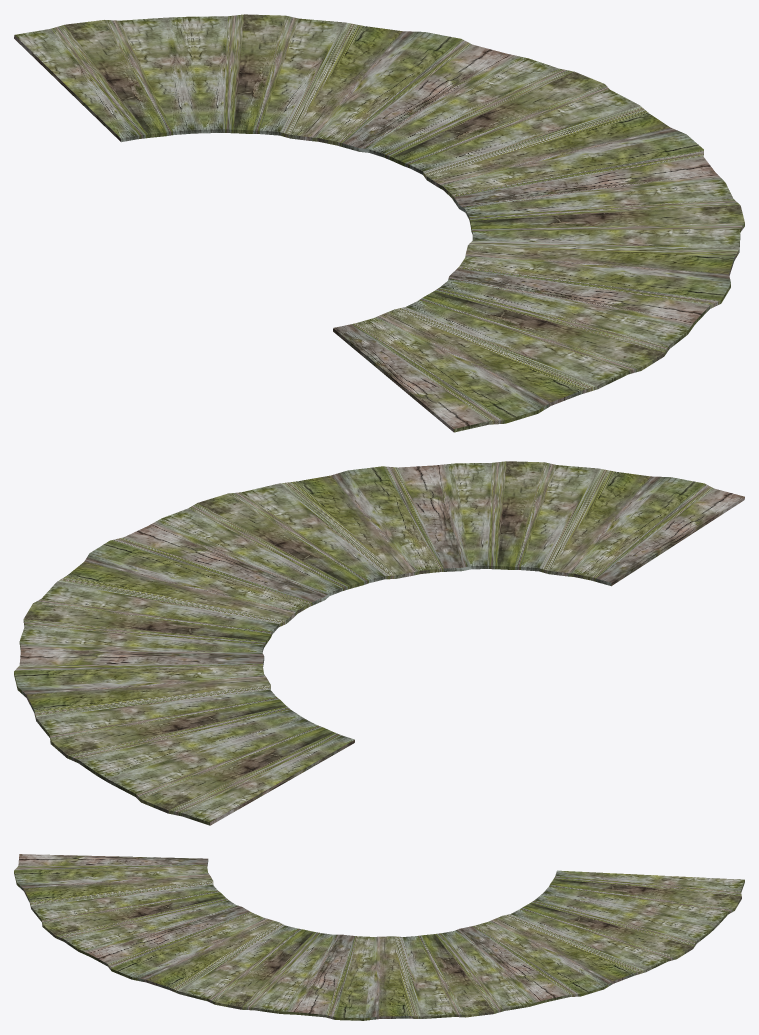
The model's file is RAMP-004.fbx.
3 renders of one model, top to bottom at view 1: azimuth 30°, elevation 25°; view 2: azimuth 150°, elevation 25°; view 3: azimuth 270°, elevation 25°, orthographic. The views are drawn at different scales.
Parts seen in each view (by area): view 1: Ramp__004; view 2: Ramp__004; view 3: Ramp__004.
Part boxes in pixels (x1=…): Ramp__004: x1=14, y1=14, x2=744, y2=432; Ramp__004: x1=14, y1=461, x2=744, y2=825; Ramp__004: x1=14, y1=854, x2=744, y2=1020.
Size of the model in its own units: 410 by 3 by 771.
